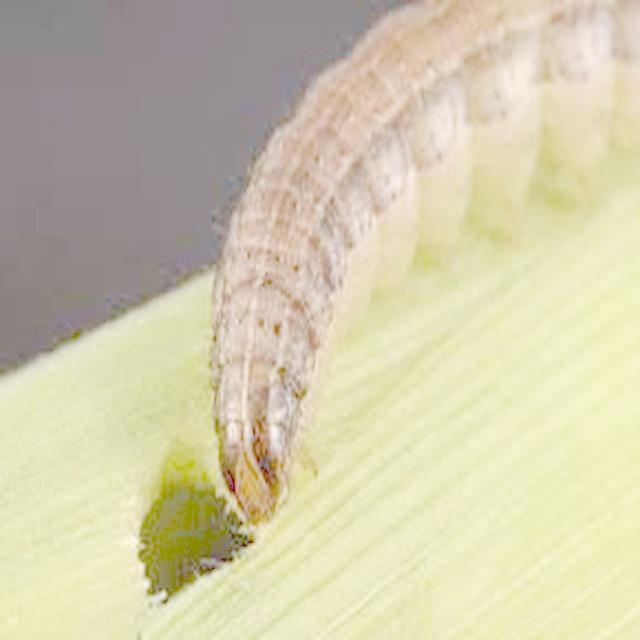gusano_cogollero: (211, 0, 640, 528)
